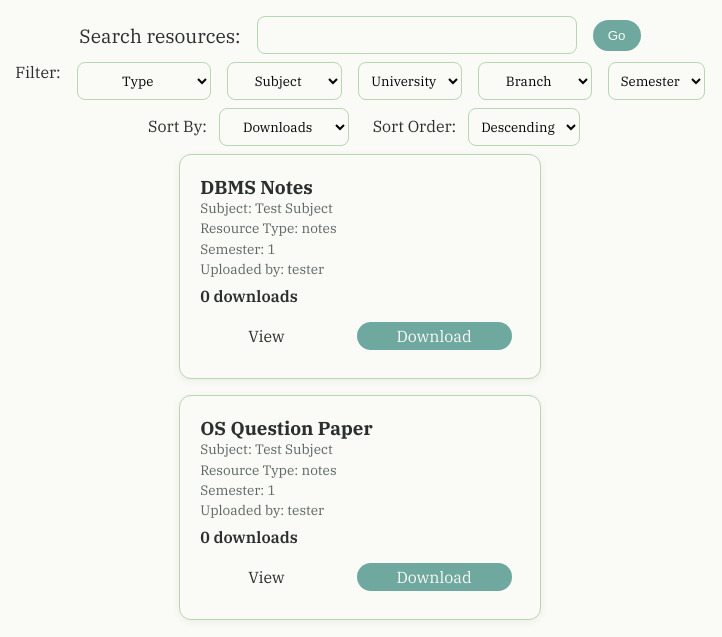
Browse › filters the resources based on the search term
Expected: the heading "DBMS Notes" is shown, [200,175,313,199]
Expected: the heading "OS Question Paper" is shown, [200,416,373,440]
In the field labelled "Search resources:": (417, 35) [257,16,577,54], type "OS"
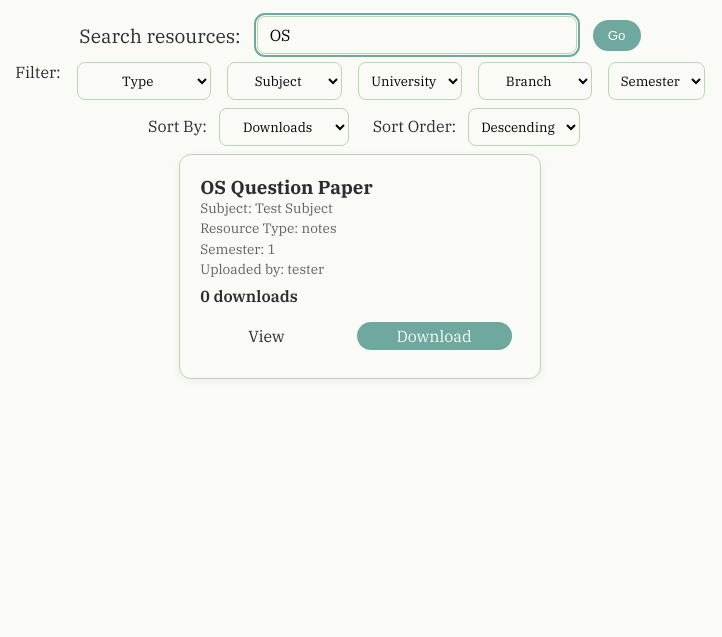
Expected: the heading "OS Question Paper" is shown, [200,175,373,199]
Now the heading "DBMS Notes" is gone
